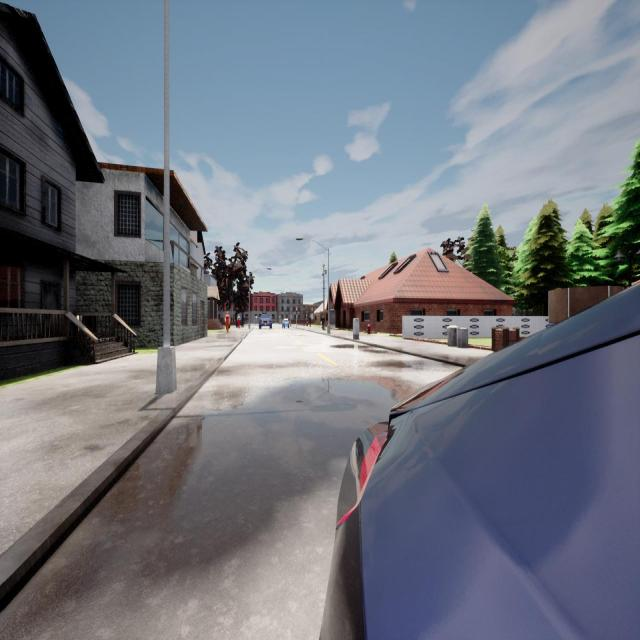Pedestrian: (225, 309, 230, 333), (235, 314, 241, 329), (322, 313, 324, 331)
Vehicle: (322, 286, 640, 638), (258, 313, 273, 330), (281, 318, 291, 330)
traffic_light: (296, 309, 297, 314)
